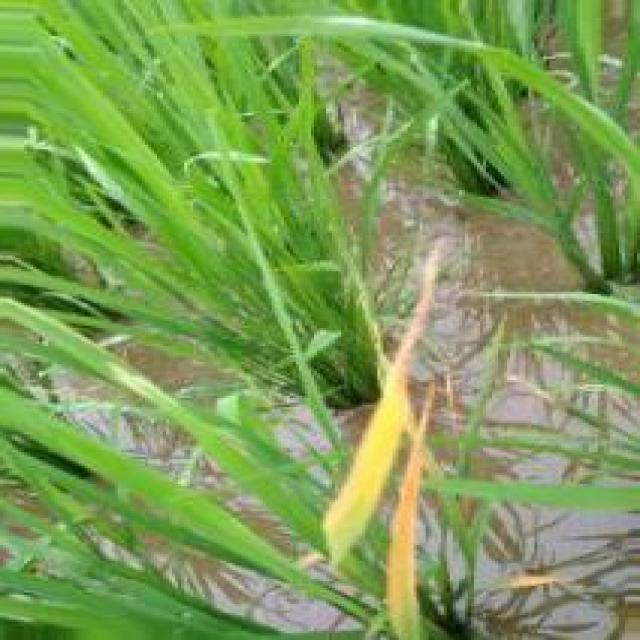Rice Tungro: (324, 245, 438, 563), (385, 383, 433, 640)
